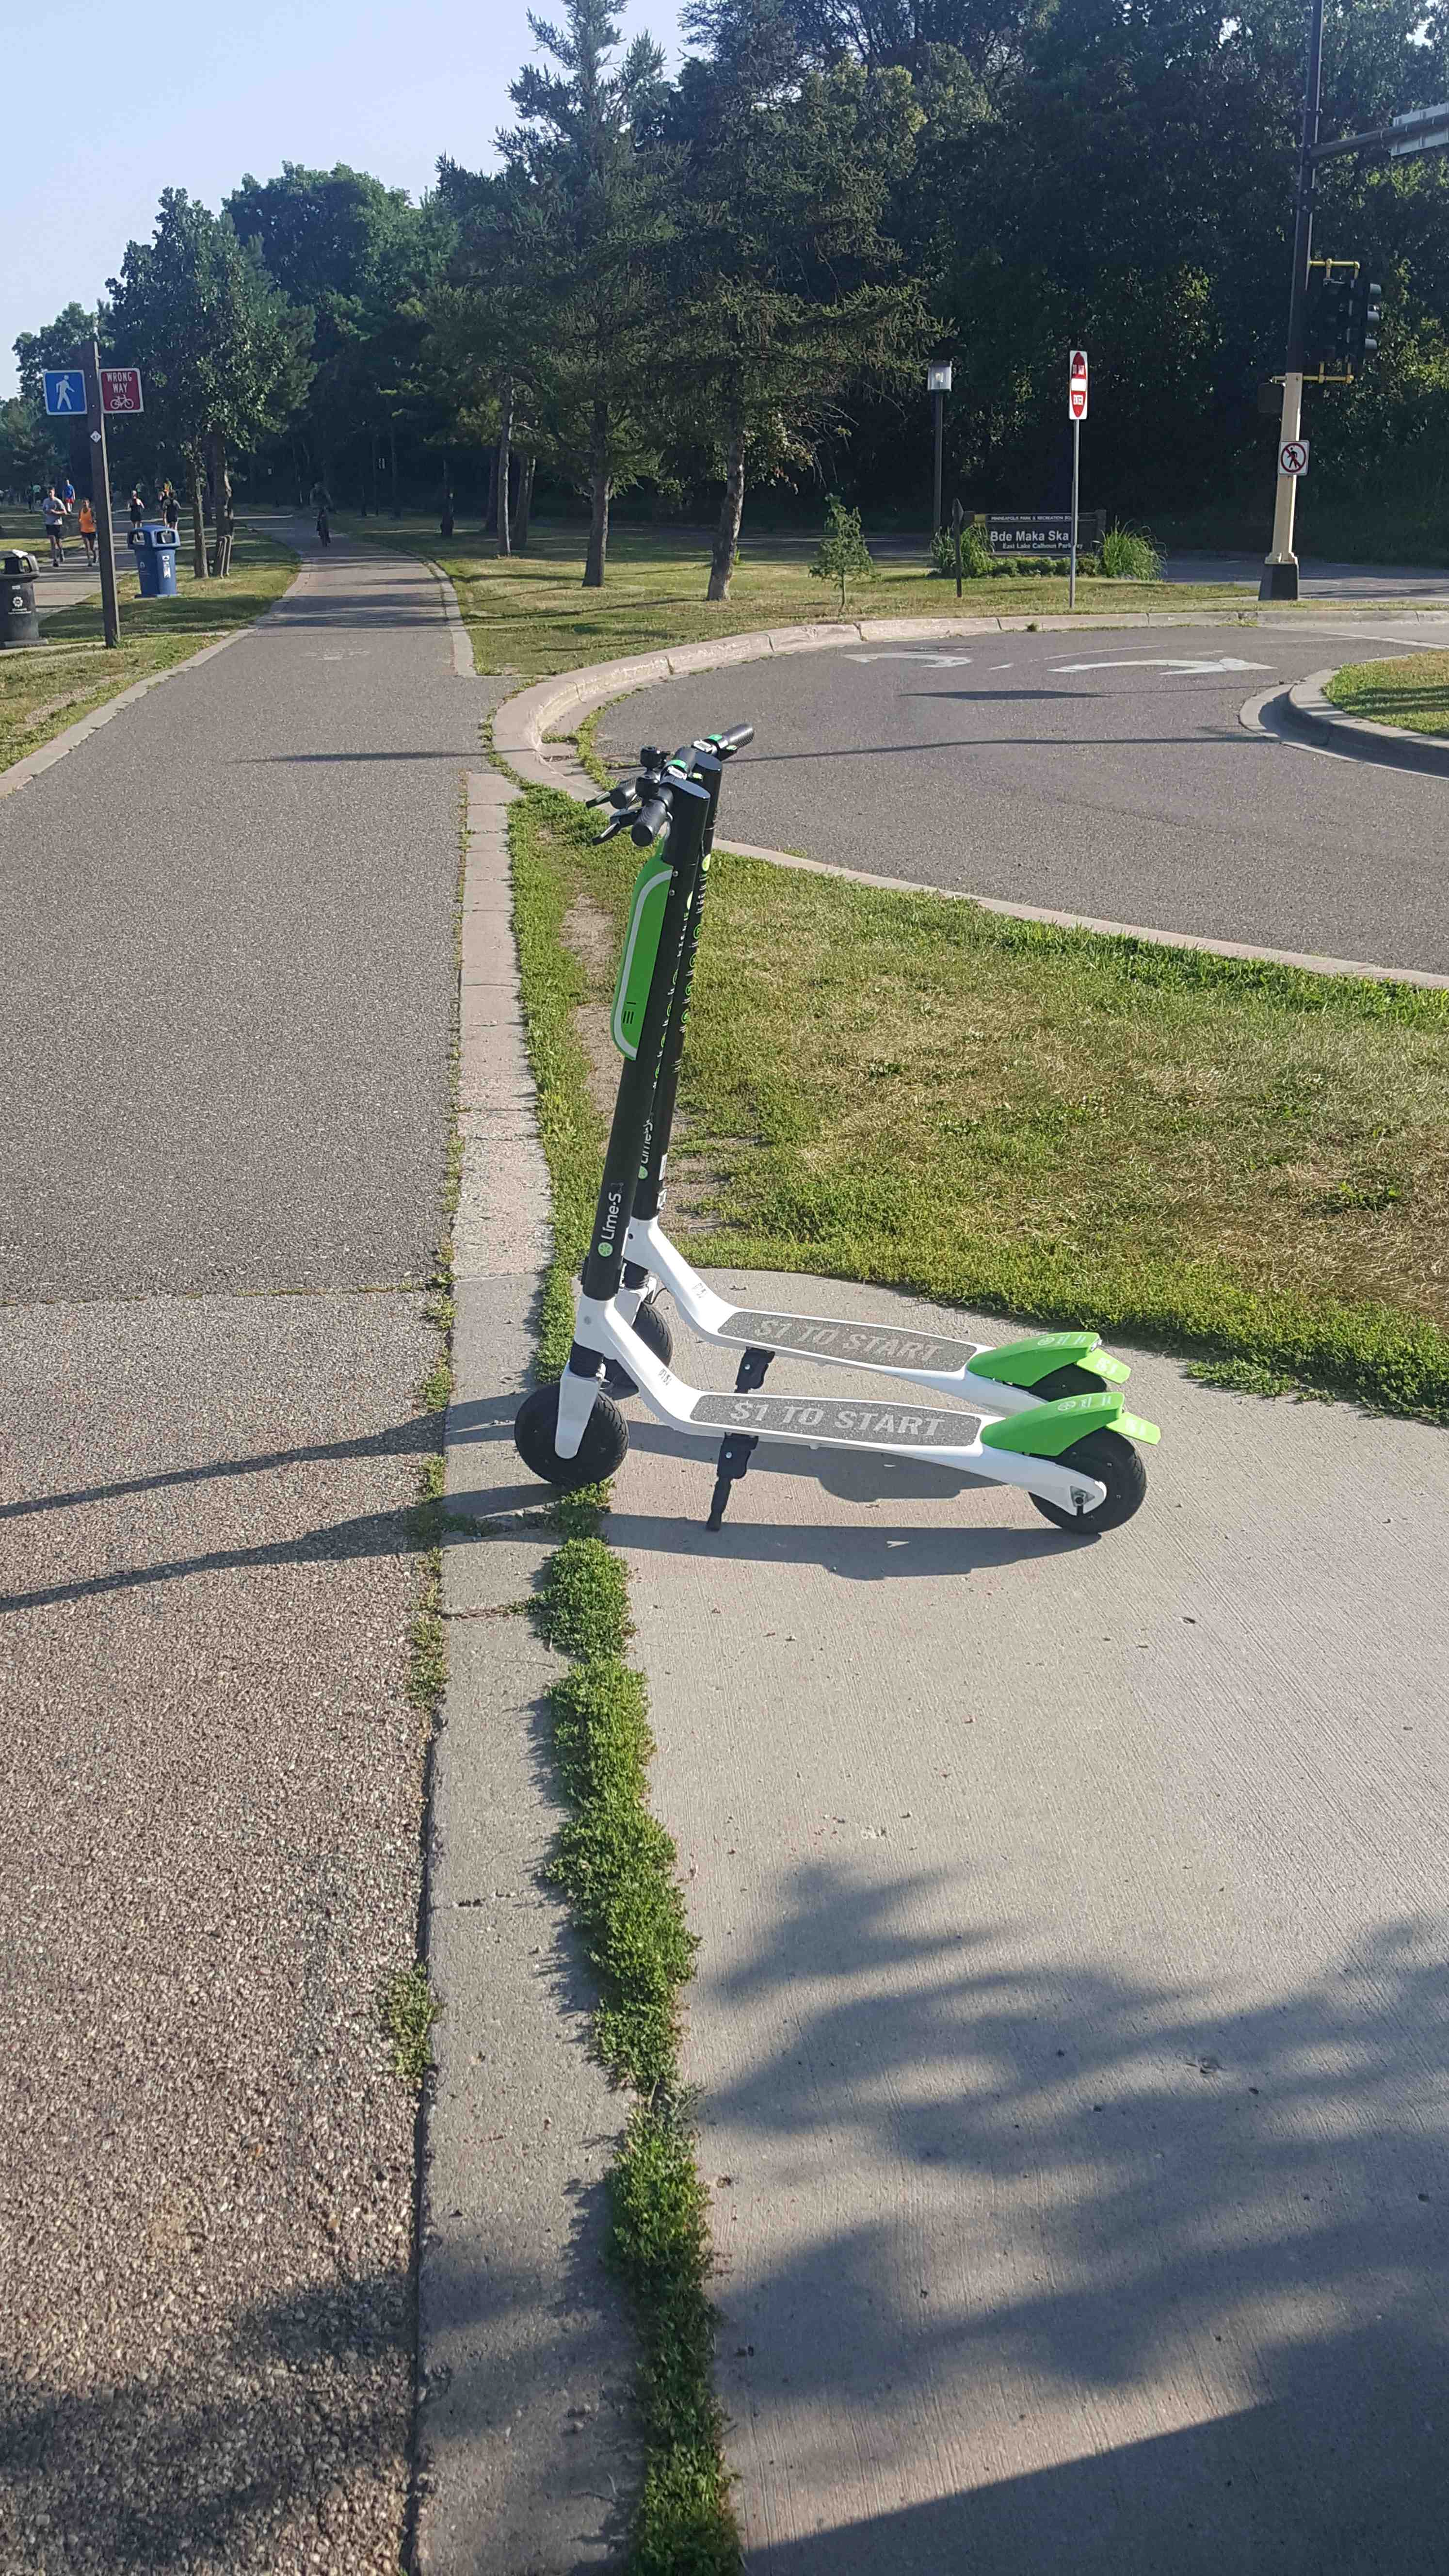scooter: (497, 672, 1191, 1553)
